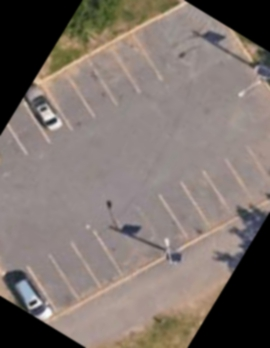parkingspot: (0, 125, 270, 325), (0, 26, 169, 175)
